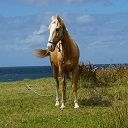caballo: (30, 8, 88, 112)
